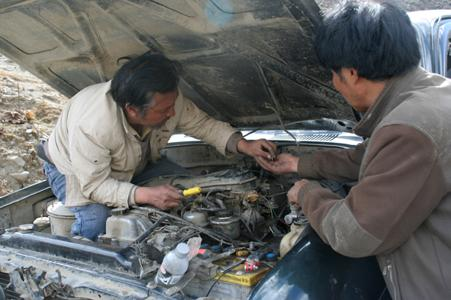person: (41, 47, 281, 241)
